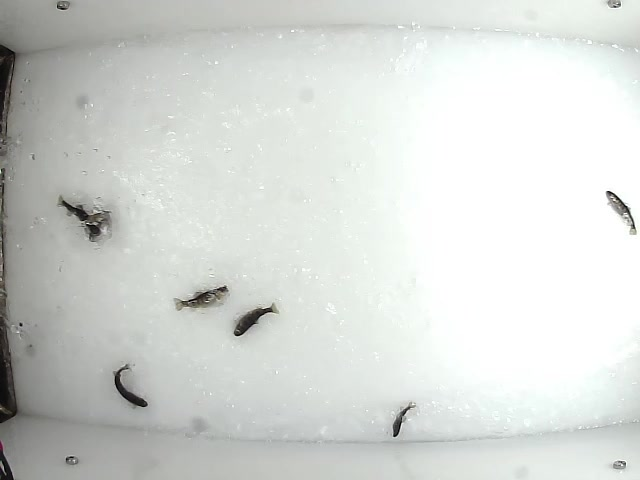fish: (109, 362, 151, 409), (601, 188, 640, 238), (232, 299, 282, 337), (56, 192, 102, 229), (171, 284, 229, 313), (389, 400, 417, 439), (85, 205, 113, 242)
